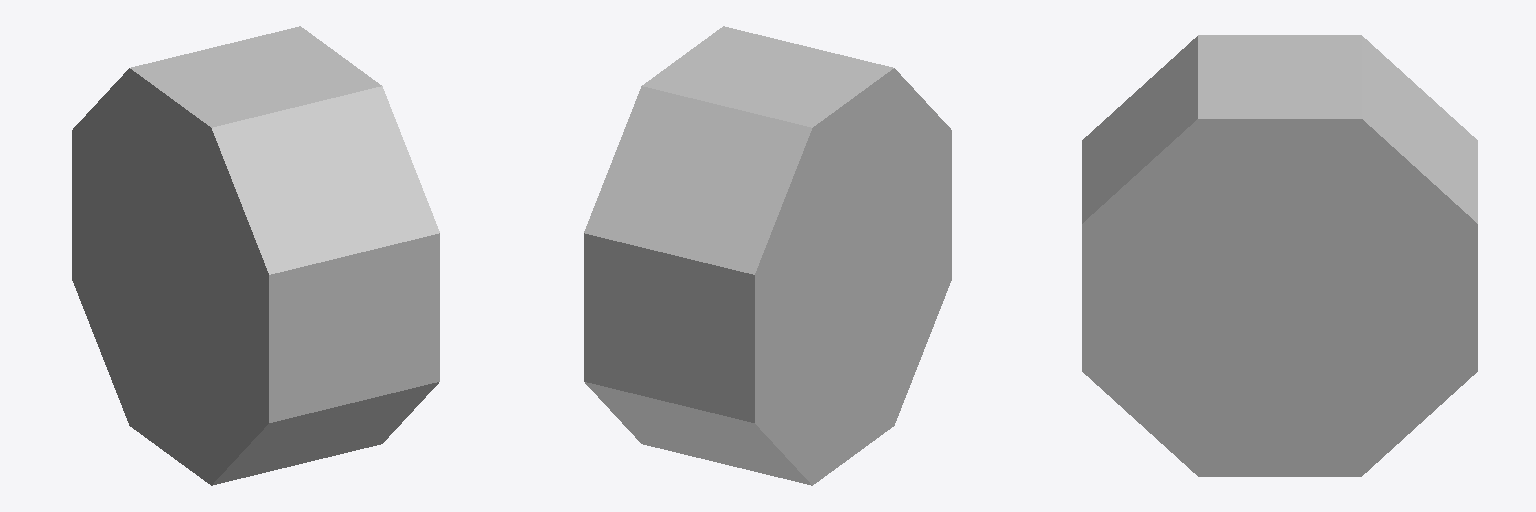
Rendered from steel_hull.obj.
The picture shows the model from 3 angles: view 1: azimuth 30°, elevation 25°; view 2: azimuth 150°, elevation 25°; view 3: azimuth 270°, elevation 25°; orthographic projection.
Parts seen in each view (by area): view 1: Boiler; view 2: Boiler; view 3: Boiler.
Boxes of the visible parts, <box> form: Boiler: <box>72,26,439,485</box>; Boiler: <box>584,26,951,485</box>; Boiler: <box>1082,35,1477,476</box>.
Bounding box in the file's own units: 1 × 2 × 2.